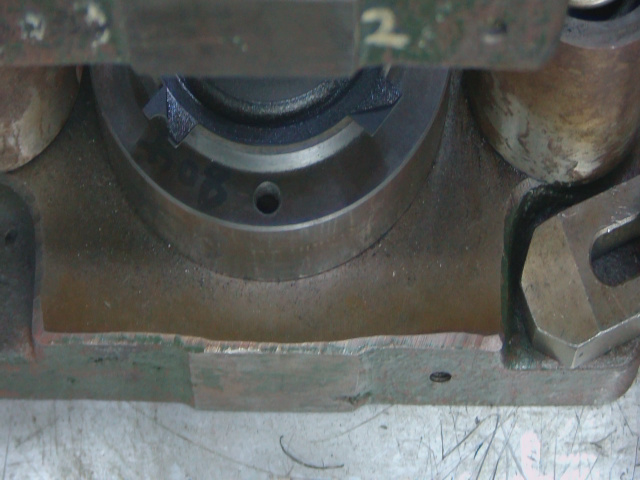OK: (143, 86, 207, 157)
